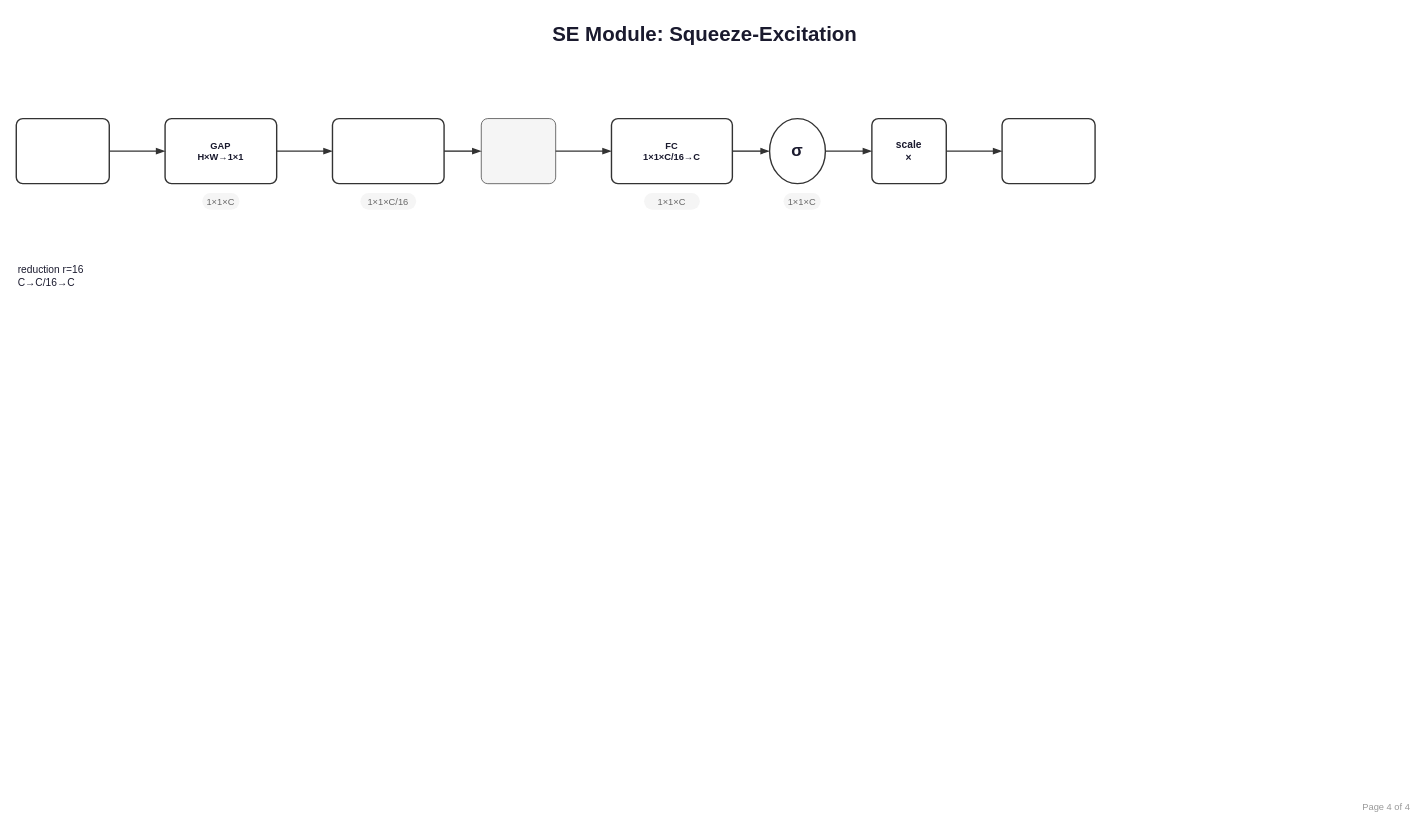
This 1428x831 diagram has some shape labels left out. Each missing label, with the box of its shape:
F H×W×C: (15, 117, 110, 184)
FC 1×1×C→C/16: (331, 117, 444, 184)
ReLU: (480, 118, 556, 184)
̄F H×W×C: (1001, 117, 1095, 184)
